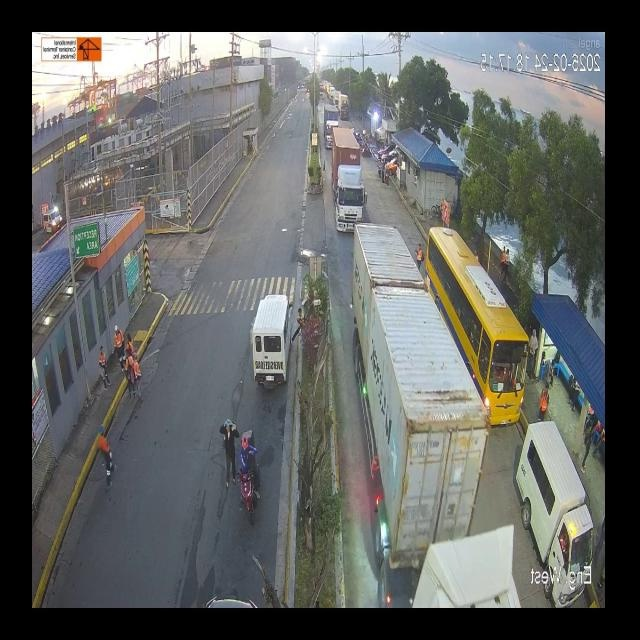bus: (105, 215, 523, 435)
car: (517, 439, 593, 557), (238, 290, 292, 396)
motorcycle: (232, 420, 260, 519)
truck: (116, 222, 394, 606), (324, 120, 370, 238), (321, 103, 339, 155), (338, 91, 353, 119)
